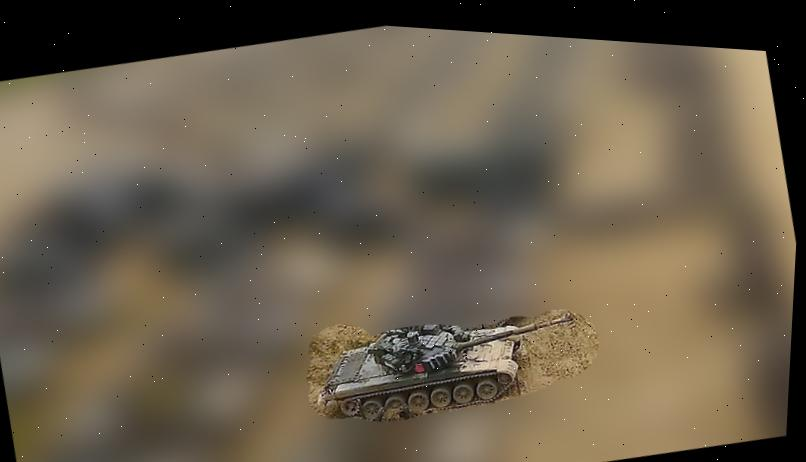tank: (314, 290, 589, 442)
